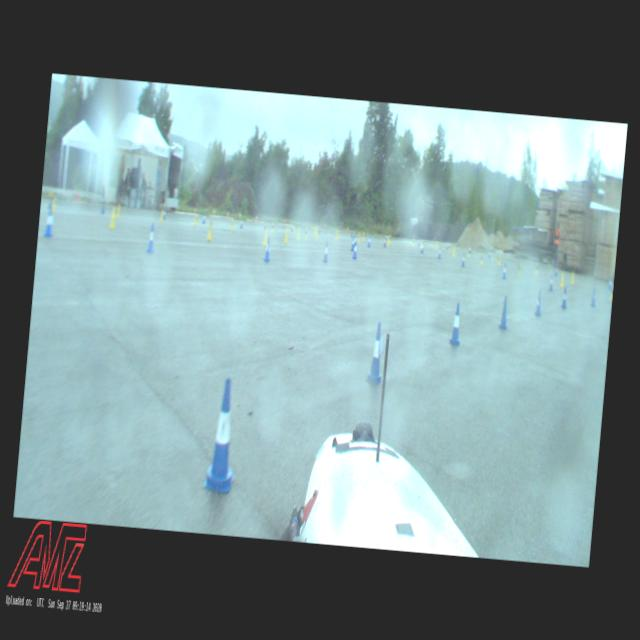blue_cone: (202, 376, 244, 494), (365, 321, 387, 383), (448, 302, 463, 346), (42, 203, 55, 237), (498, 296, 509, 330), (146, 224, 156, 252), (534, 290, 544, 316), (263, 236, 272, 260), (560, 288, 568, 308), (590, 288, 597, 306), (322, 242, 328, 260), (352, 242, 358, 259), (548, 274, 554, 290), (502, 263, 507, 279), (437, 245, 442, 258), (366, 235, 371, 247), (350, 238, 354, 250), (460, 253, 464, 264)
yellow_cone: (205, 218, 214, 242), (108, 206, 116, 229), (262, 227, 268, 246), (284, 226, 290, 244), (609, 284, 613, 302), (559, 274, 564, 286), (570, 272, 574, 284)
